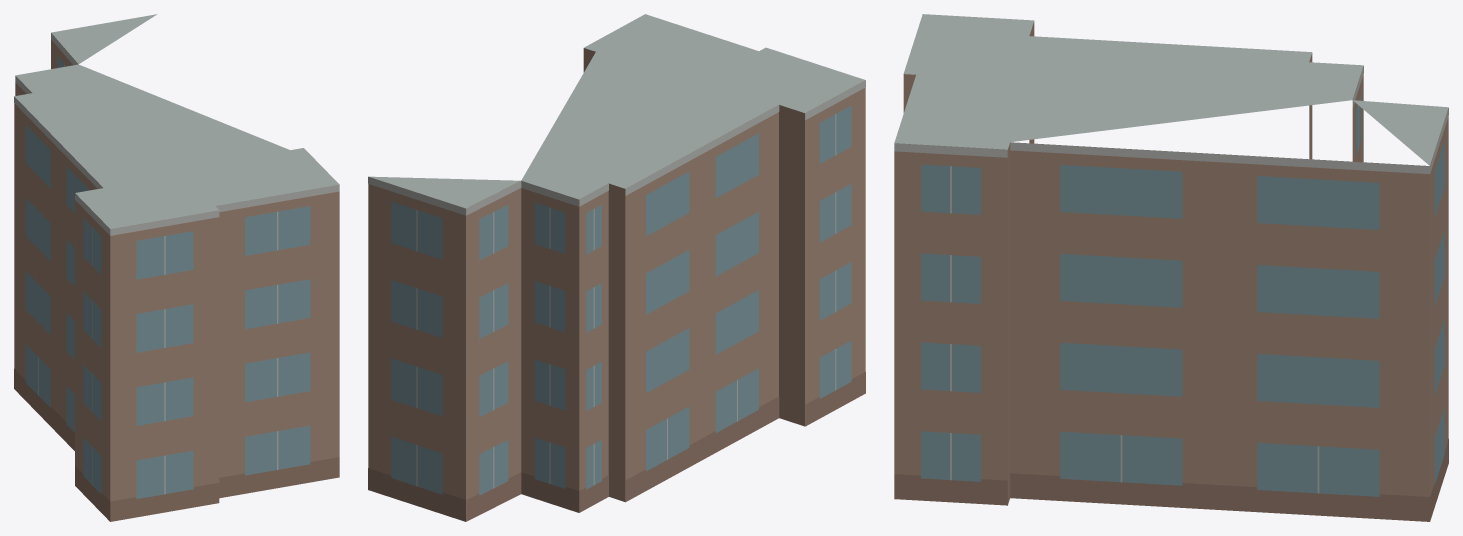
Rendered from survey-upis-32950158.glb.
The picture shows the model from 3 angles, left to right: view 1: azimuth 30°, elevation 25°; view 2: azimuth 150°, elevation 25°; view 3: azimuth 270°, elevation 25°; orthographic projection. The views are drawn at different scales.
Parts seen in each view (by area): view 1: survey-upis-32950158.tmp; view 2: survey-upis-32950158.tmp; view 3: survey-upis-32950158.tmp.
Boxes of the visible parts, <box> form: survey-upis-32950158.tmp: <box>14,14,339,521</box>; survey-upis-32950158.tmp: <box>368,14,865,521</box>; survey-upis-32950158.tmp: <box>894,14,1448,521</box>.
Bounding box in the file's own units: 9.72 × 10.6 × 14.98.
